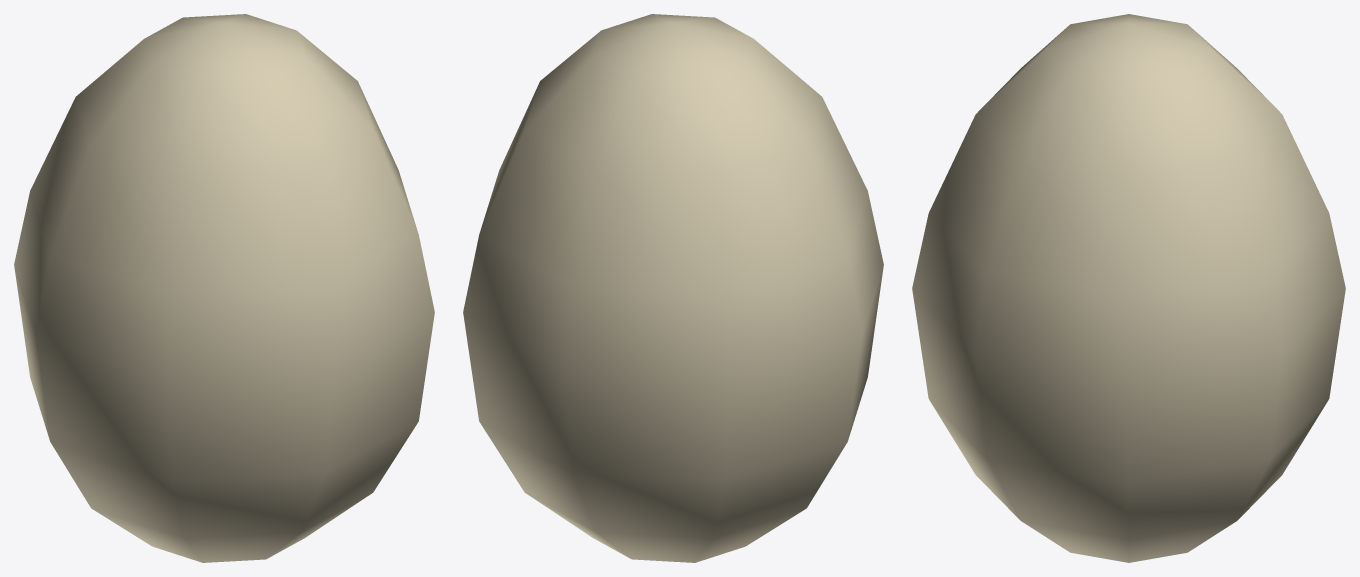
The model's file is egg_white.fbx.
3 views of the same model, side by side, from view 1: azimuth 30°, elevation 25°; view 2: azimuth 150°, elevation 25°; view 3: azimuth 270°, elevation 25° (orthographic).
Visible parts, largest first — view 1: Sphere; view 2: Sphere; view 3: Sphere.
Part boxes in pixels (box(x1,y1,x2,y2)): Sphere: box(14, 14, 434, 562); Sphere: box(463, 14, 883, 562); Sphere: box(912, 14, 1345, 562).
Size of the model in its own units: 4.46 by 5.88 by 4.46.
